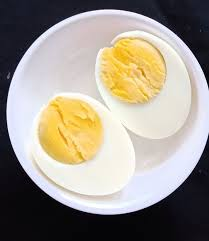Telur rebus: (30, 89, 137, 198), (94, 25, 195, 139)
